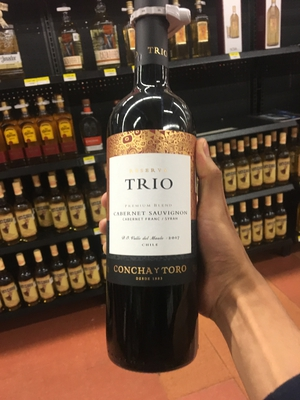trio cabernet sauvignon: (84, 12, 218, 372)
